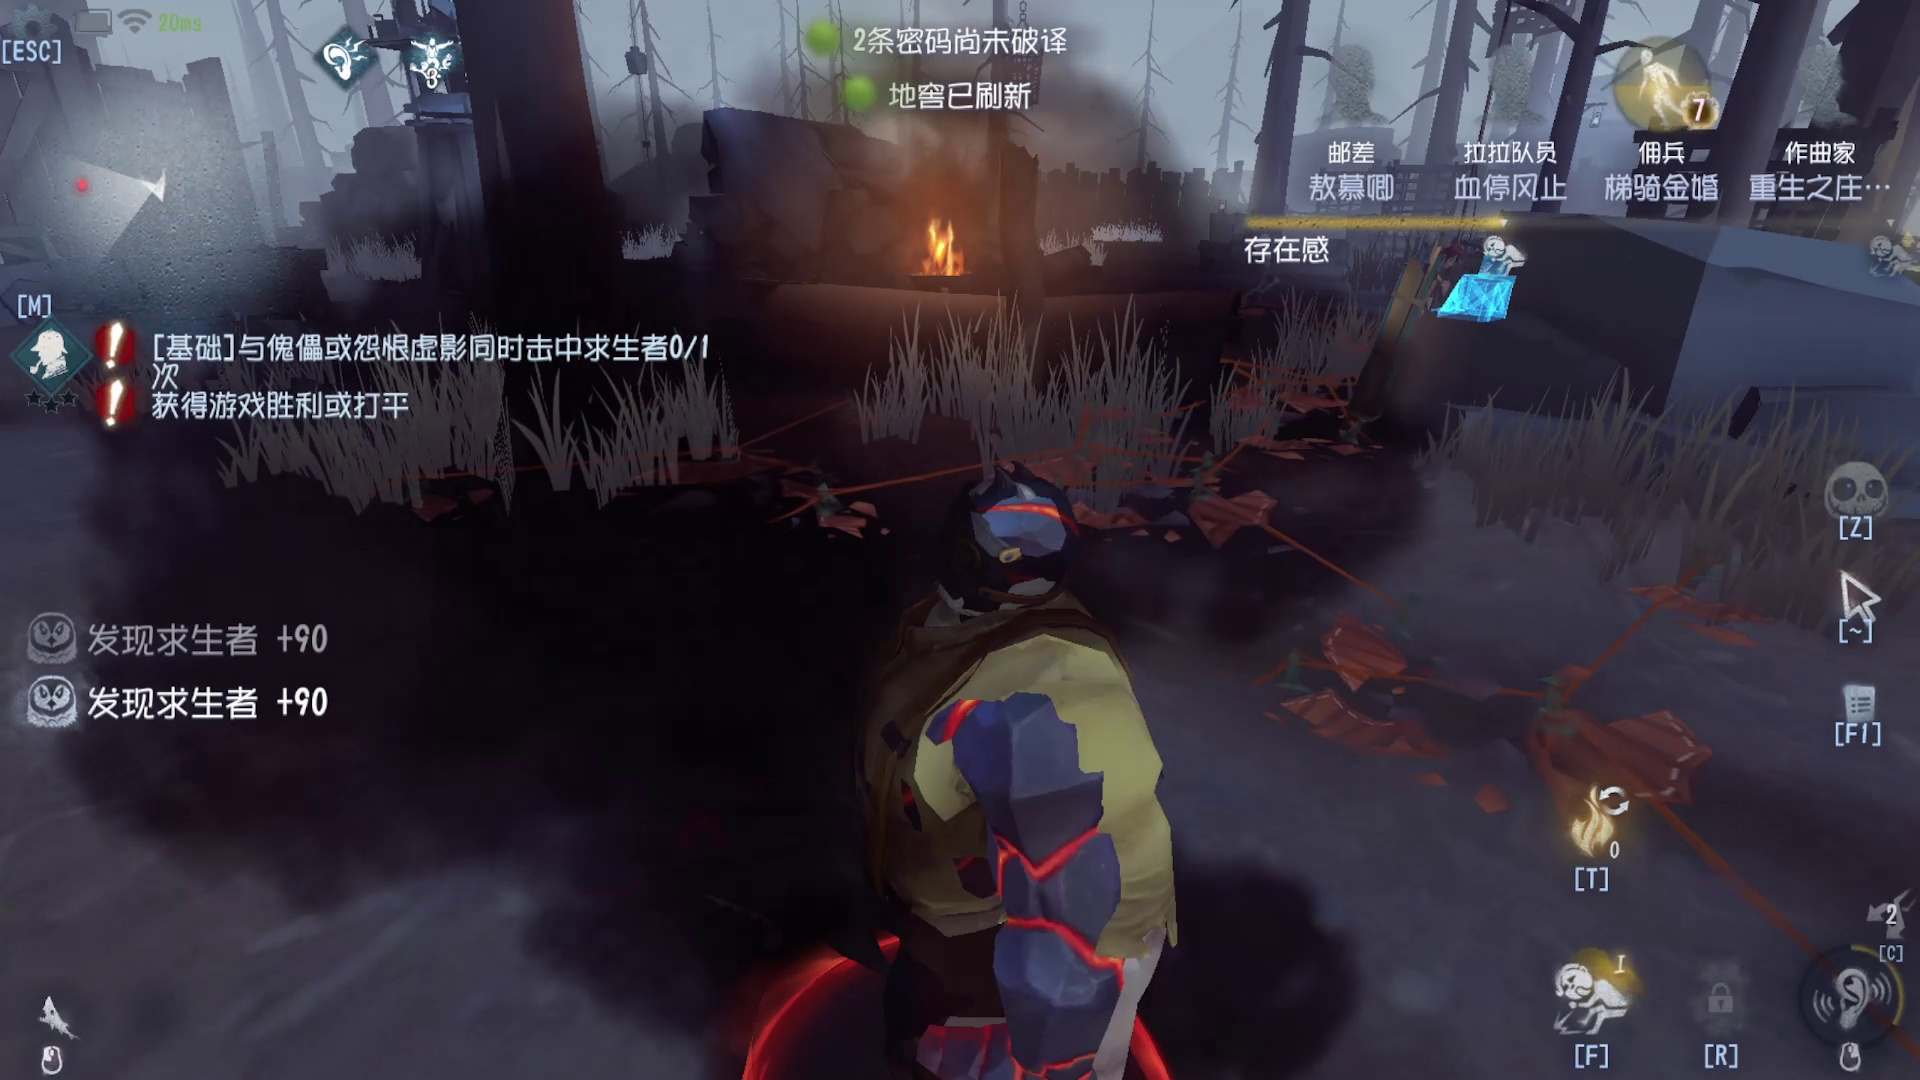密码机: (1427, 65, 1552, 353)
脚印: (1242, 498, 1720, 793), (881, 349, 1271, 531)
